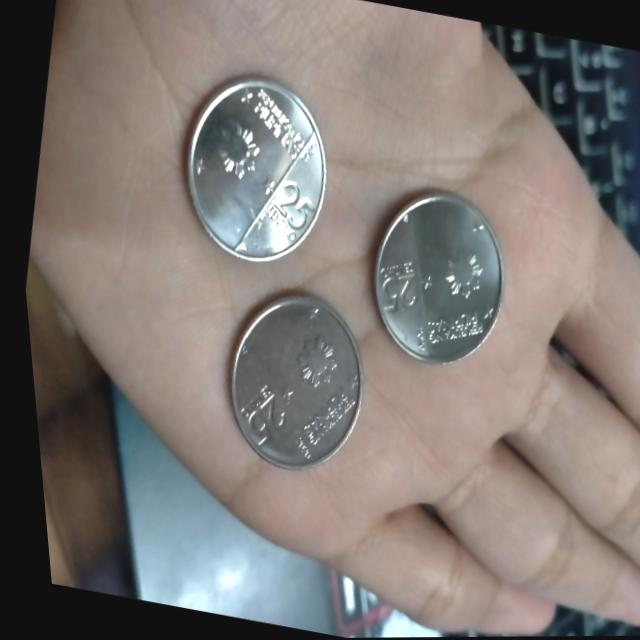25Cent_New_Front: (215, 319, 373, 478), (188, 77, 335, 234), (355, 225, 511, 371)
